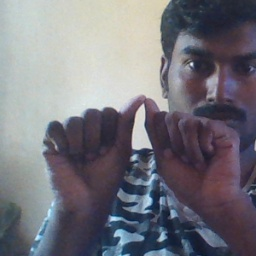A: (62, 92, 237, 205)
